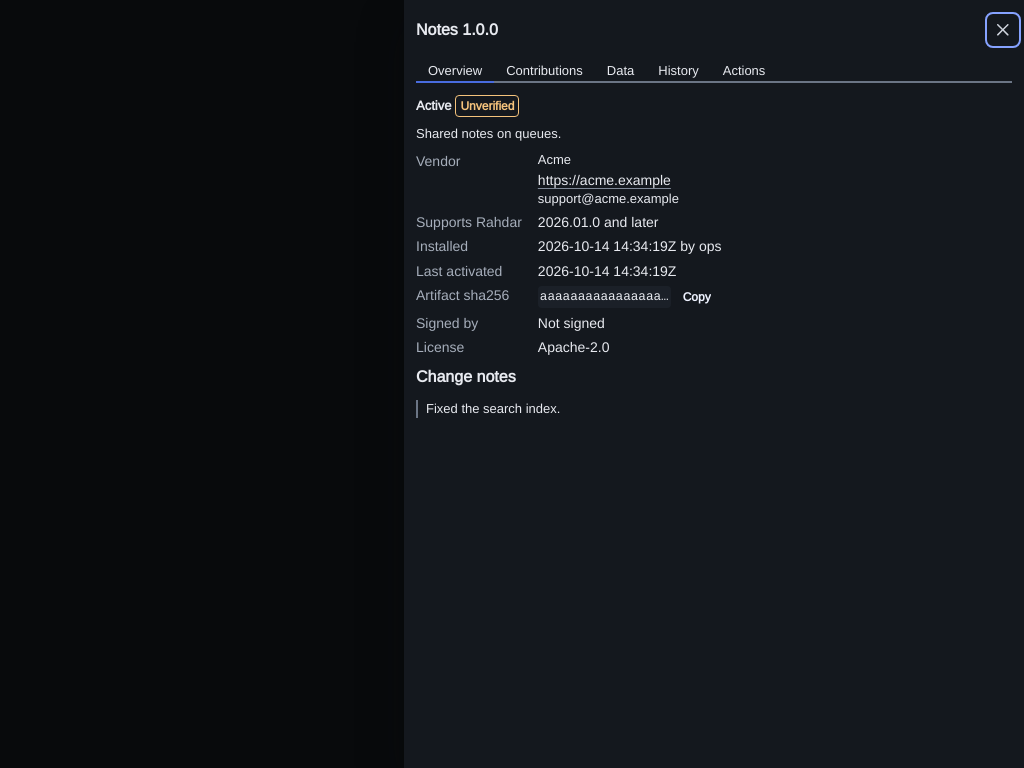
PluginDrawer: actions offered › shows the actions disabled with the reason for someone who cannot install
Click the tab "Actions": [744, 72] box [711,60,777,83]
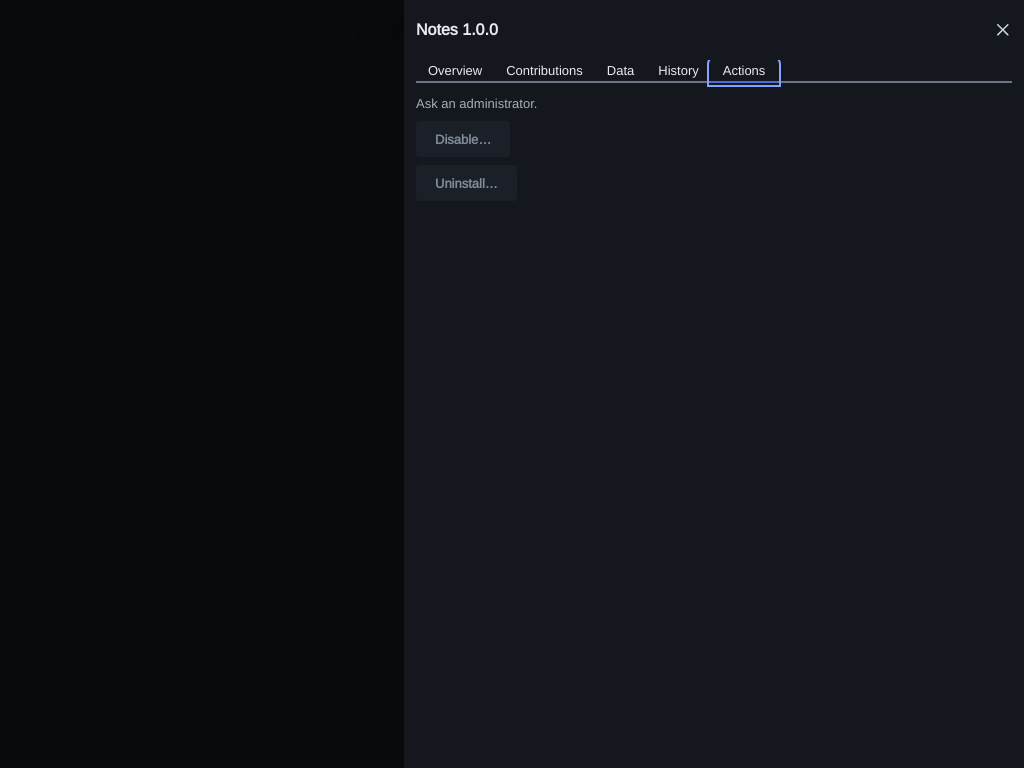
Expected: the text "Ask an administrator." is shown, [416,95,537,112]
Expected: the button "Disable…" is disabled, [416,121,510,157]
Expected: the button "Uninstall…" is disabled, [416,165,517,201]
